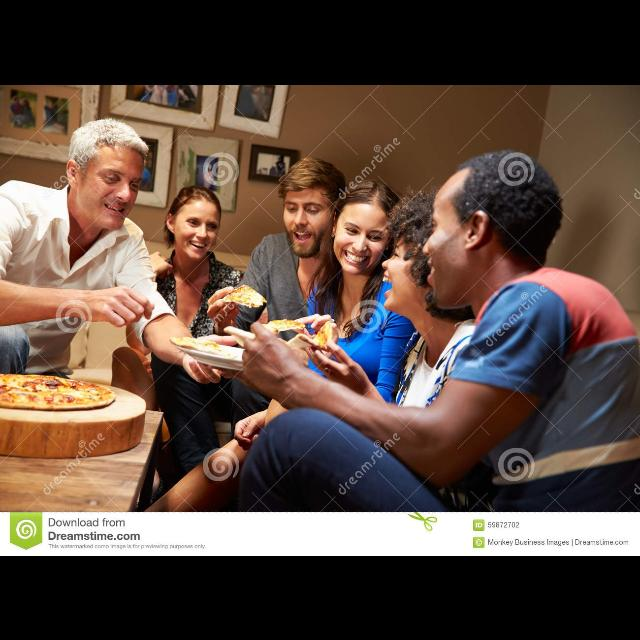head: (422, 150, 564, 308), (66, 116, 146, 232), (329, 180, 405, 276), (282, 158, 346, 258), (332, 180, 398, 276), (165, 184, 222, 262)
person: (146, 153, 428, 535), (0, 114, 254, 520), (107, 182, 279, 516)
